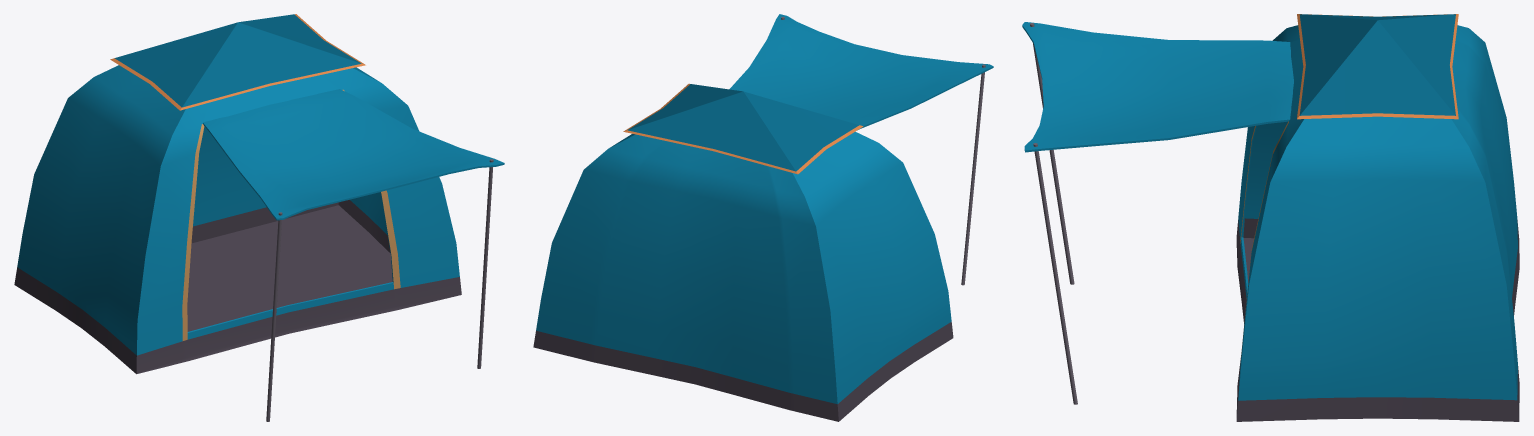
Rendered from M_Sem04_Prop_Tent_LODs_SBoewing.fbx.
3 views of the same model, side by side, from view 1: azimuth 30°, elevation 25°; view 2: azimuth 150°, elevation 25°; view 3: azimuth 270°, elevation 25° (orthographic). The views are drawn at different scales.
Visible parts, largest first — view 1: tent_LOD0; view 2: tent_LOD0; view 3: tent_LOD0.
Part boxes in pixels (bbox=[...]): tent_LOD0: bbox=[14, 14, 504, 421]; tent_LOD0: bbox=[533, 14, 993, 421]; tent_LOD0: bbox=[1022, 14, 1519, 421].
Size of what is drawn, in the model's own units: 200 by 163 by 229.
